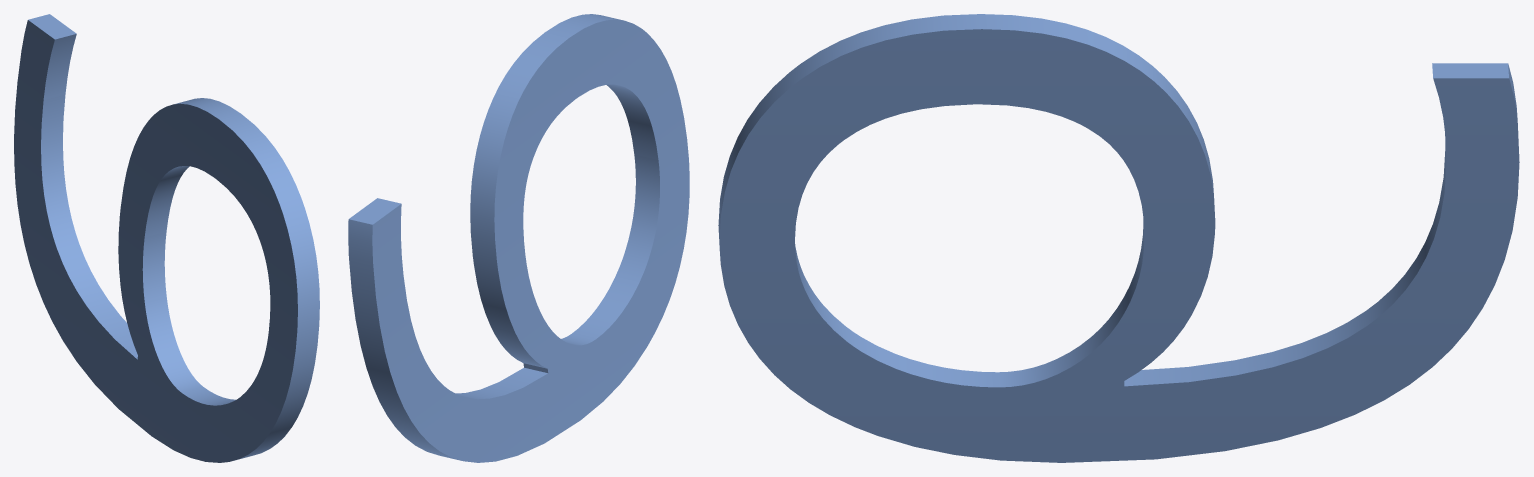
The model's file is New_Number_9.gltf.
3 renders of one model, left to right at view 1: azimuth 30°, elevation 25°; view 2: azimuth 150°, elevation 25°; view 3: azimuth 270°, elevation 25°, orthographic. The views are drawn at different scales.
Visible parts, largest first — view 1: Part 270; view 2: Part 270; view 3: Part 270.
Part boxes in pixels (left/top/right/bottom): Part 270: left=14, top=14, right=319, bottom=462; Part 270: left=348, top=14, right=689, bottom=462; Part 270: left=718, top=14, right=1519, bottom=462.
Size of the model in its own units: 0.000705 by 0.0036 by 0.00567.
